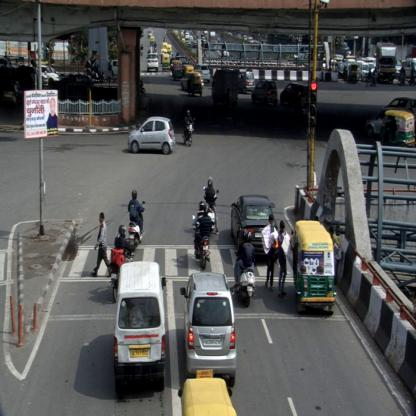car: (112, 262, 168, 392), (182, 274, 237, 387), (230, 193, 280, 264), (127, 114, 176, 155), (252, 78, 278, 108), (238, 70, 256, 94), (195, 63, 210, 86), (147, 52, 159, 71), (358, 62, 370, 79)
motorcycle: (235, 228, 258, 308), (110, 224, 130, 302), (193, 202, 212, 268), (128, 189, 146, 252), (204, 177, 222, 234), (184, 110, 194, 148)
truck: (212, 70, 239, 110), (375, 42, 396, 87)
